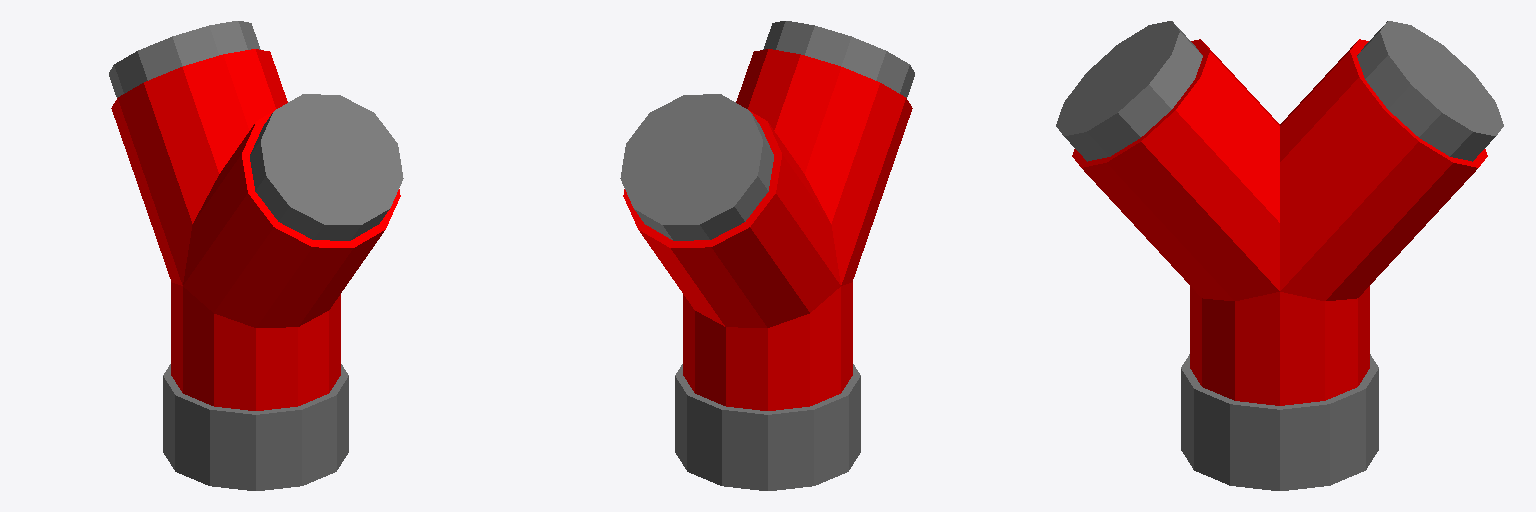
The robot description file, URDF, robot "drcbox-hose-y-joint-0-robot":
<?xml version="1.0"?>
<robot name="drcbox-hose-y-joint-0-robot"
       xmlns:xi="http://www.w3.org/2001/XInclude"
       xmlns:gazebo="http://playerstage.sourceforge.net/gazebo/xmlschema/#gz"
       xmlns:model="http://playerstage.sourceforge.net/gazebo/xmlschema/#model"
       xmlns:sensor="http://playerstage.sourceforge.net/gazebo/xmlschema/#sensor"
       xmlns:body="http://playerstage.sourceforge.net/gazebo/xmlschema/#body"
       xmlns:geom="http://playerstage.sourceforge.net/gazebo/xmlschema/#geom"
       xmlns:joint="http://playerstage.sourceforge.net/gazebo/xmlschema/#joint"
       xmlns:interface="http://playerstage.sourceforge.net/gazebo/xmlschema/#interface"
       xmlns:rendering="http://playerstage.sourceforge.net/gazebo/xmlschema/#rendering"
       xmlns:renderable="http://playerstage.sourceforge.net/gazebo/xmlschema/#renderable"
       xmlns:controller="http://playerstage.sourceforge.net/gazebo/xmlschema/#controller"
       xmlns:physics="http://playerstage.sourceforge.net/gazebo/xmlschema/#physics">
  <gazebo>
    <static>false</static>
  </gazebo>
  <link name="nil_link">
    <visual>
      <origin xyz="0 0 0" rpy="0 -0 0"/>
      <geometry>
        <mesh filename="model://drcbox-hose-y-joint-0/meshes/nil_link_mesh.dae" scale="1 1 1" />
      </geometry>
    </visual>
    <collision>
      <origin xyz="0 0 0" rpy="0 -0 0"/>
      <geometry>
        <mesh filename="model://drcbox-hose-y-joint-0/meshes/nil_link_mesh.dae" scale="1 1 1" />
      </geometry>
    </collision>
    <inertial>
      <mass value="0.001" />
      <origin xyz="0 0 0" rpy="0 -0 0"/>
      <inertia ixx="1e-03" ixy="0" ixz="0" iyy="1e-03" iyz="0" izz="1e-03"/>
    </inertial>
  </link>
  <gazebo reference="nil_link">
    <mu1>0.9</mu1>
    <mu2>0.9</mu2>
  </gazebo>
</robot>

--- What the picture shows (computed from the rendered views, not written in the file) ---
Views: 3 orthographic renders of the robot side by side, from view 1: azimuth 30°, elevation 25°; view 2: azimuth 150°, elevation 25°; view 3: azimuth 270°, elevation 25°.
Model drcbox-hose-y-joint-0-robot with 1 links and 0 joints (none), rooted at nil_link, posed all joints at 0.
Links seen in each view (by area): view 1: nil_link; view 2: nil_link; view 3: nil_link.
Link boxes in pixels (x1,y1,x2,y2): nil_link: [109, 21, 403, 490]; nil_link: [620, 21, 914, 490]; nil_link: [1056, 21, 1503, 490].
Bounding box of the posed robot: 0.11 × 0.2489 × 0.2562 m (x, y, z).
Meshes: 1 distinct files referenced, 1 mesh visuals loaded (1 Collada DAE).